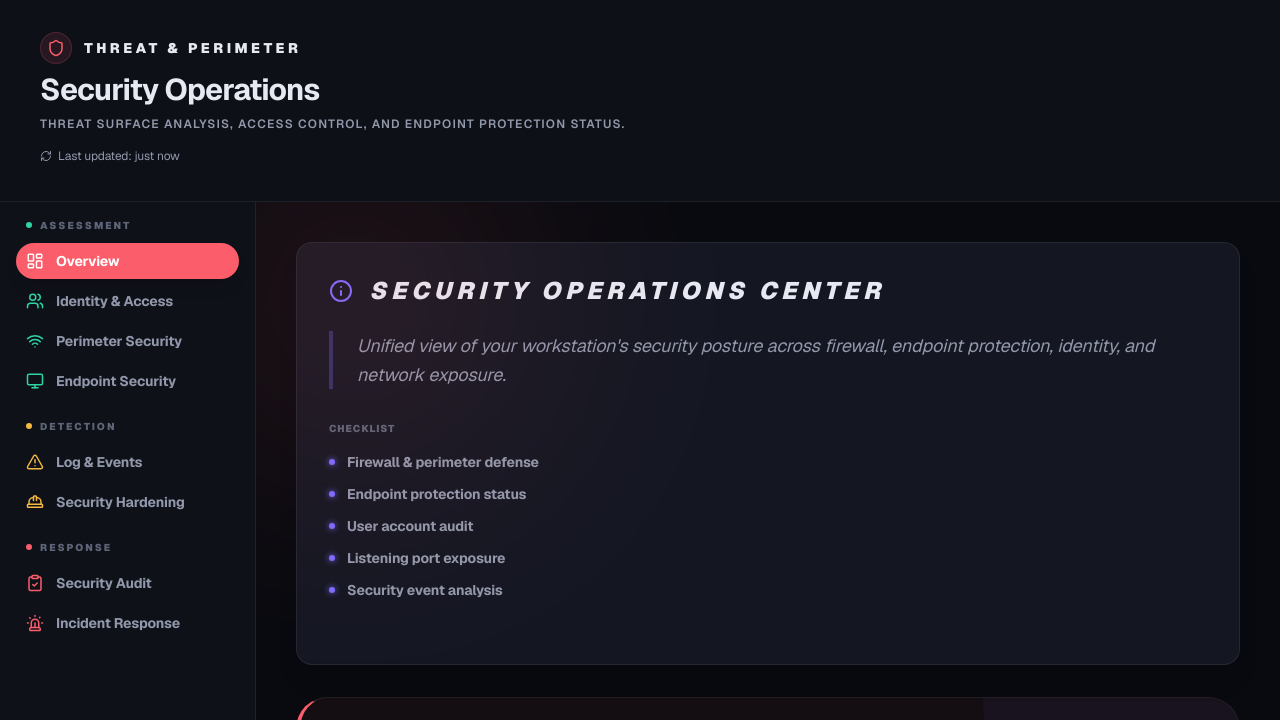
Test: SecOps Page › navigates to Endpoint Security sidebar category
The width and height of the screenshot is (1280, 720).
Click the button "Endpoint Security" at (128, 380), box [16,362,239,398]
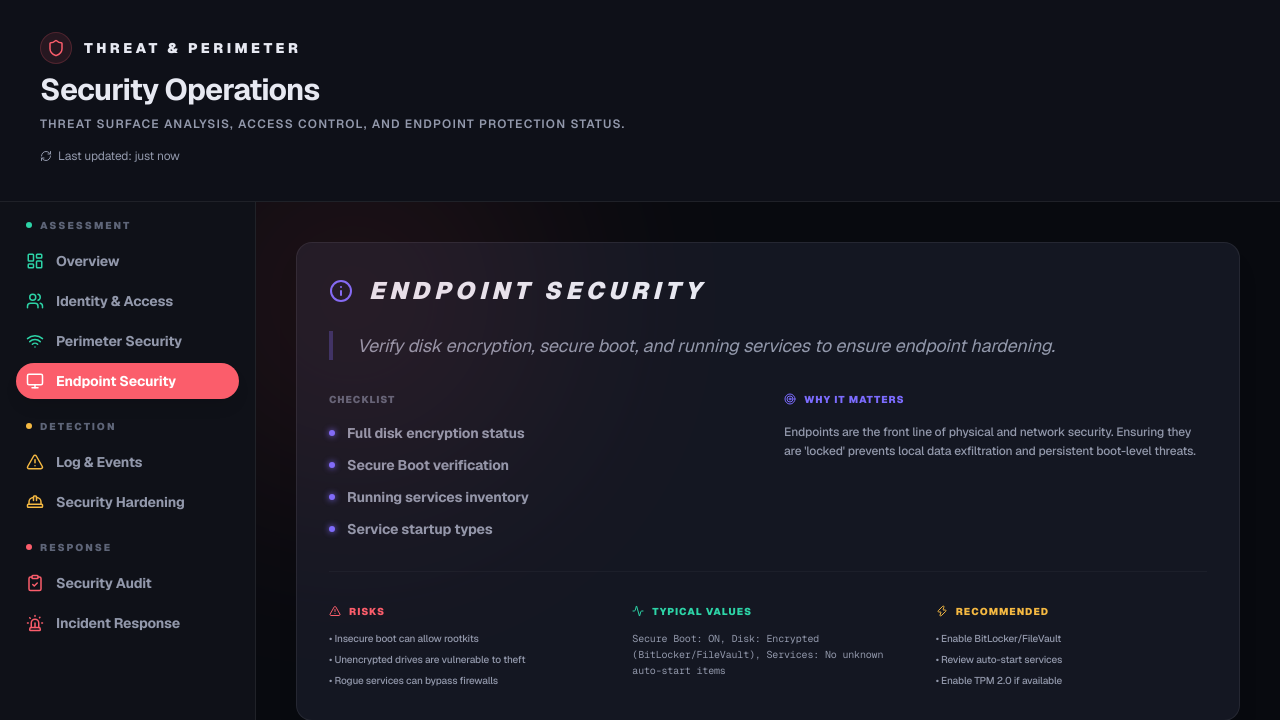
Expected: the heading "Endpoint Security" is shown, [369,274,706,306]
